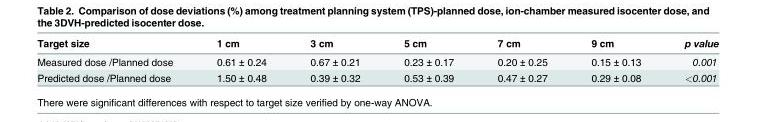table: (36, 36, 718, 83)
table column: (36, 36, 194, 83), (287, 36, 381, 83), (474, 36, 568, 83), (568, 36, 662, 83), (194, 36, 287, 83), (381, 36, 474, 83), (662, 36, 718, 83)
table column header: (36, 36, 718, 52)
table row: (36, 52, 718, 69), (36, 36, 718, 52), (36, 69, 718, 83)
